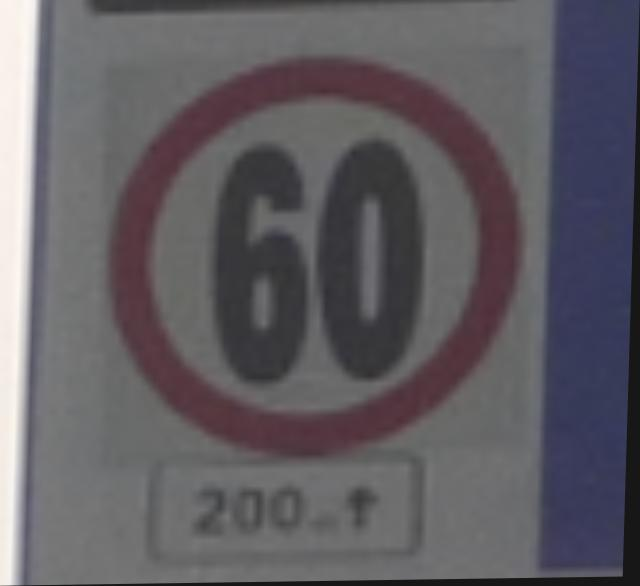limit60: (88, 49, 540, 480)
